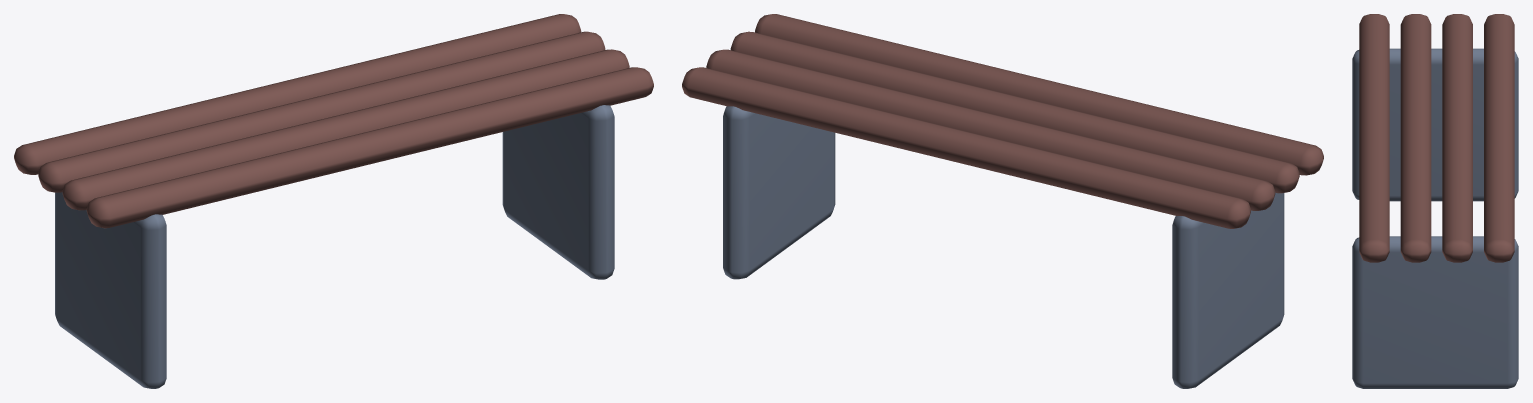
File: bench.glb
The picture shows the model from 3 angles, left to right: view 1: azimuth 30°, elevation 25°; view 2: azimuth 150°, elevation 25°; view 3: azimuth 270°, elevation 25°; orthographic projection. The views are drawn at different scales.
Visible parts, largest first — view 1: Bench slat, Bench leg, Bench leg.001, Bench slat.002, Bench slat.001, Bench slat.003; view 2: Bench slat.003, Bench leg, Bench leg.001, Bench slat.002, Bench slat, Bench slat.001; view 3: Bench leg.001, Bench slat.001, Bench slat, Bench slat.002, Bench slat.003, Bench leg.
Boxes of the visible parts, x1,y1,x2,y2 form: Bench slat: [86, 67, 653, 228]; Bench leg: [55, 192, 166, 388]; Bench leg.001: [502, 105, 614, 279]; Bench slat.002: [38, 31, 605, 192]; Bench slat.001: [62, 49, 629, 210]; Bench slat.003: [14, 14, 581, 174]; Bench slat.003: [682, 67, 1250, 228]; Bench leg: [1172, 192, 1284, 388]; Bench leg.001: [723, 106, 835, 279]; Bench slat.002: [706, 49, 1275, 210]; Bench slat: [755, 14, 1323, 175]; Bench slat.001: [730, 31, 1299, 193]; Bench leg.001: [1352, 236, 1518, 388]; Bench slat.001: [1400, 14, 1431, 262]; Bench slat: [1359, 14, 1389, 262]; Bench slat.002: [1442, 14, 1472, 262]; Bench slat.003: [1484, 14, 1514, 262]; Bench leg: [1352, 48, 1518, 201].
Size of the model in its own units: 2 by 0.665 by 0.6.
